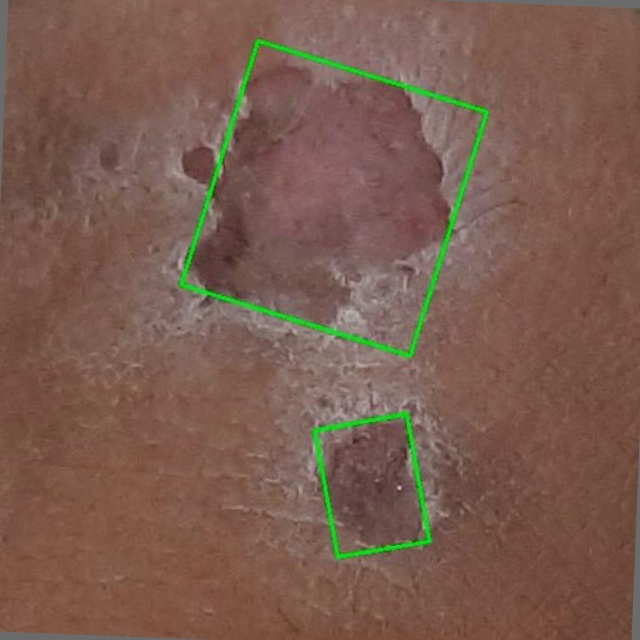Contact Dermatitis: (181, 40, 486, 355), (314, 413, 429, 556)
